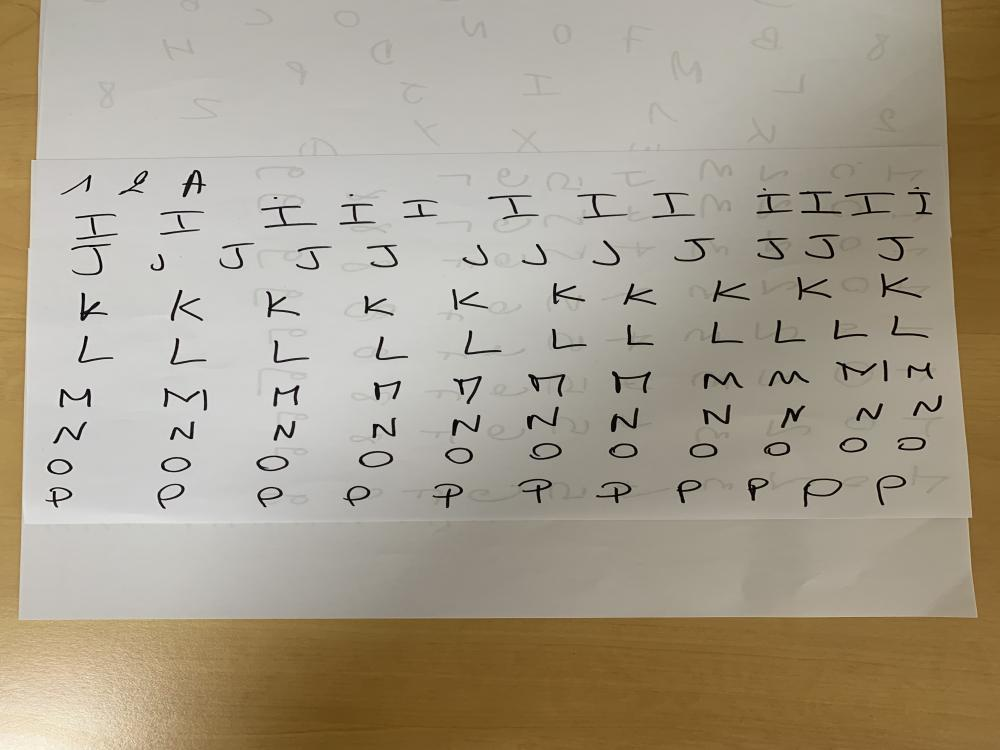0: (356, 448, 395, 471), (529, 441, 564, 464), (156, 455, 194, 474), (255, 454, 291, 474), (896, 433, 928, 454), (607, 442, 641, 461), (444, 444, 472, 466), (686, 442, 720, 460), (763, 440, 792, 459), (838, 436, 868, 454)
1: (59, 172, 95, 196)
2: (117, 170, 153, 196)
A: (180, 170, 210, 198)
I: (483, 194, 546, 221), (73, 211, 125, 242), (255, 204, 318, 228), (650, 190, 698, 221), (154, 208, 207, 236), (573, 192, 628, 218), (848, 190, 894, 217), (800, 190, 841, 216), (753, 191, 794, 216), (334, 202, 378, 225), (397, 198, 440, 220), (904, 192, 934, 216)
J: (65, 242, 113, 276), (871, 234, 916, 262), (672, 237, 719, 262), (217, 242, 257, 271), (802, 234, 844, 260), (292, 245, 334, 269), (363, 243, 402, 268), (590, 240, 626, 267), (756, 237, 792, 262), (459, 243, 496, 267), (520, 242, 552, 268), (150, 252, 167, 272)
K: (874, 273, 926, 301), (260, 289, 304, 318), (170, 288, 206, 323), (446, 286, 491, 312), (791, 276, 835, 302), (708, 280, 754, 304), (74, 292, 110, 322), (360, 292, 398, 318), (622, 284, 662, 308), (549, 282, 589, 304)
L: (166, 334, 210, 368), (704, 320, 750, 347), (458, 330, 504, 356), (888, 314, 933, 340), (543, 328, 593, 351), (270, 338, 312, 364), (76, 336, 114, 364), (771, 319, 811, 345), (830, 318, 872, 342), (620, 321, 656, 349), (376, 334, 409, 360)
M: (832, 356, 894, 385), (159, 387, 213, 411), (608, 369, 655, 396), (525, 372, 572, 398), (698, 370, 746, 392), (451, 376, 488, 403), (904, 360, 939, 386), (57, 387, 96, 410), (767, 370, 813, 388), (370, 380, 406, 402), (271, 386, 303, 406)
N: (48, 419, 90, 445), (524, 406, 562, 434), (606, 406, 642, 434), (910, 394, 948, 420), (700, 403, 736, 428), (778, 404, 811, 431), (448, 414, 482, 440), (368, 416, 402, 440), (167, 419, 197, 441), (855, 401, 885, 422), (269, 421, 299, 442), (44, 458, 75, 477)
P: (802, 476, 844, 508), (514, 476, 558, 505), (873, 472, 907, 508), (594, 480, 634, 505), (430, 482, 464, 509), (743, 475, 774, 504), (156, 483, 188, 511), (675, 478, 703, 504), (44, 485, 74, 509), (256, 485, 284, 509), (344, 485, 374, 507)
